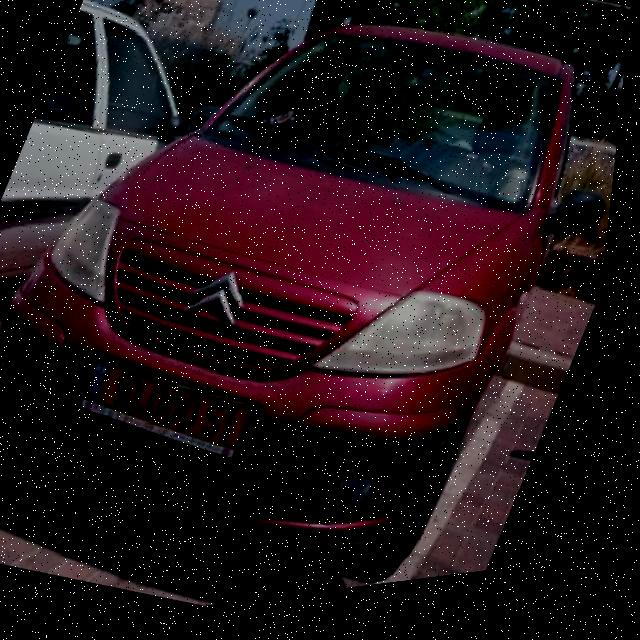license_plate: (70, 340, 278, 486)
